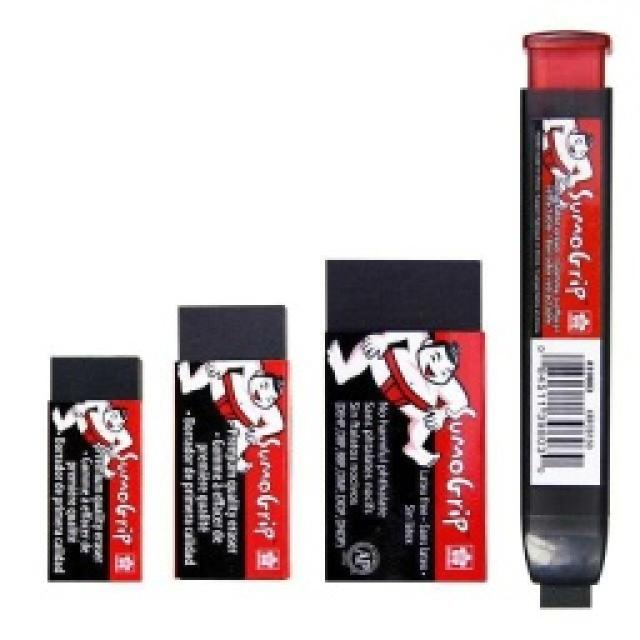Silgi: (324, 260, 488, 582), (178, 306, 290, 581)
